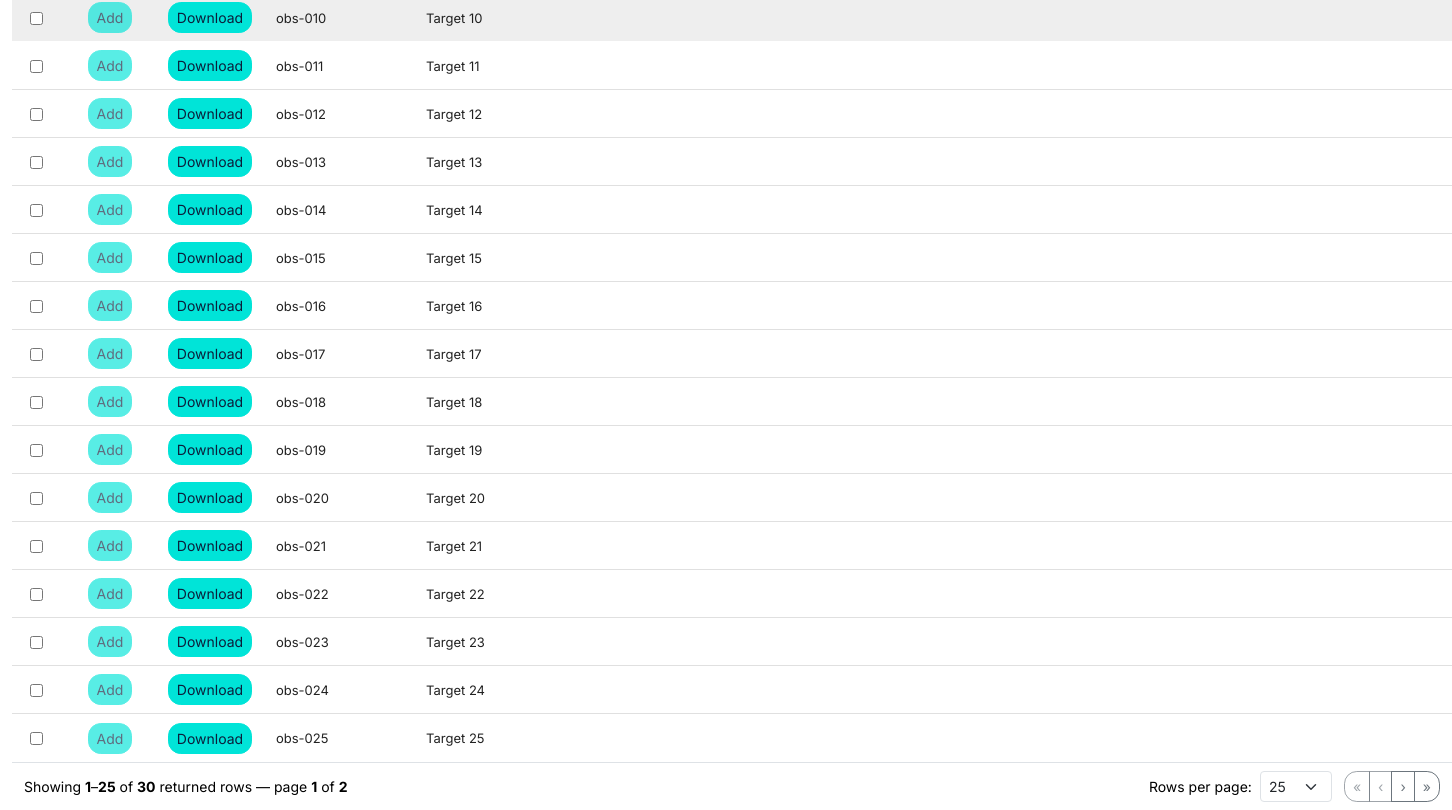
ResultsTable pagination and selection › deselects a row correctly after sorting changes the visible page
The width and height of the screenshot is (1452, 810).
(page scrolled)
Select "10" in the dropdown labelled "Rows per page:" at (1296, 786), box [1260, 771, 1332, 802]
(page scrolled)
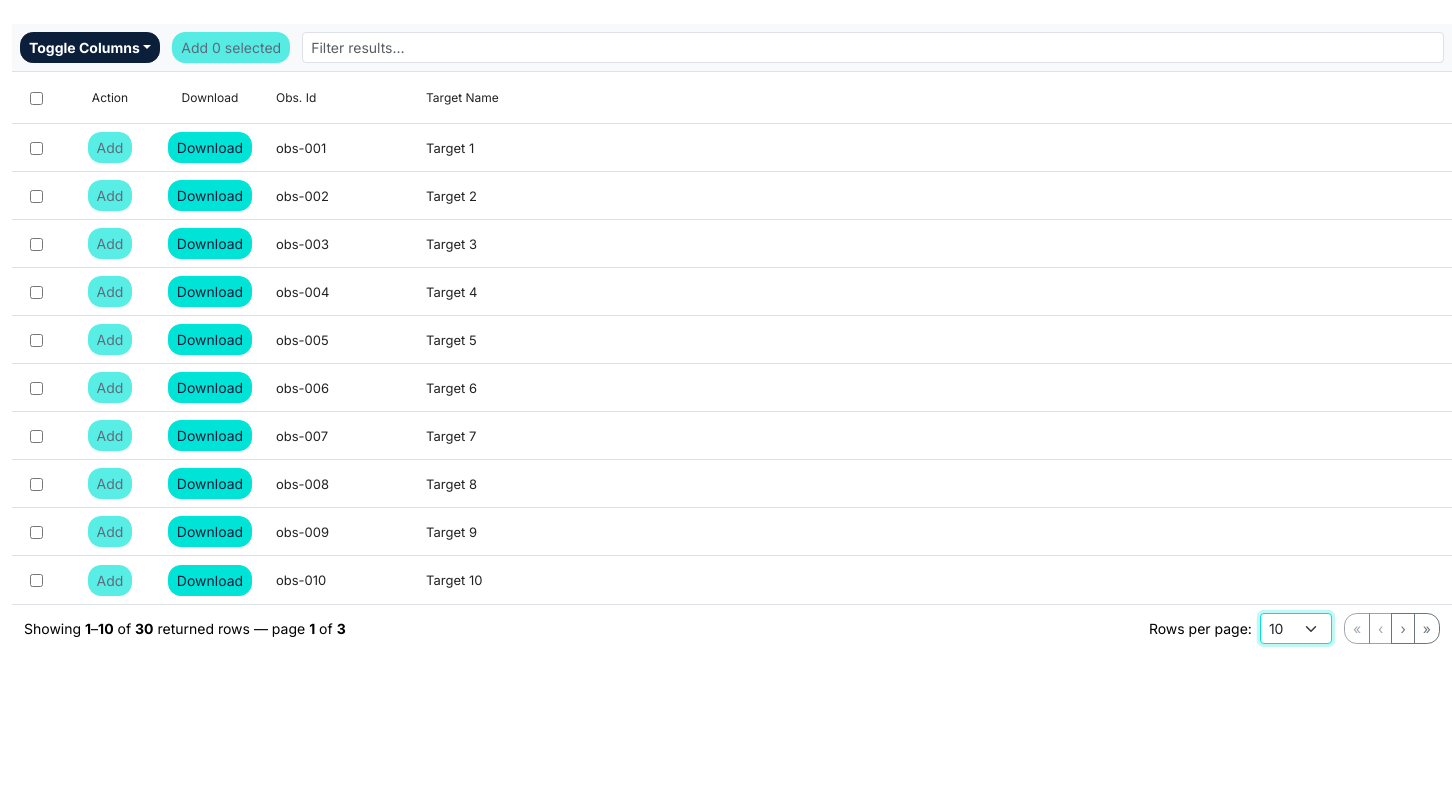
Check: the text "obs-001" is shown, box [276, 140, 326, 156]
Check: the text "obs-010" is shown, box [276, 572, 326, 588]
first click sorts ascending, second click descending
Click the column heading "Obs. Id".
click(296, 98)  # box [276, 90, 316, 105]
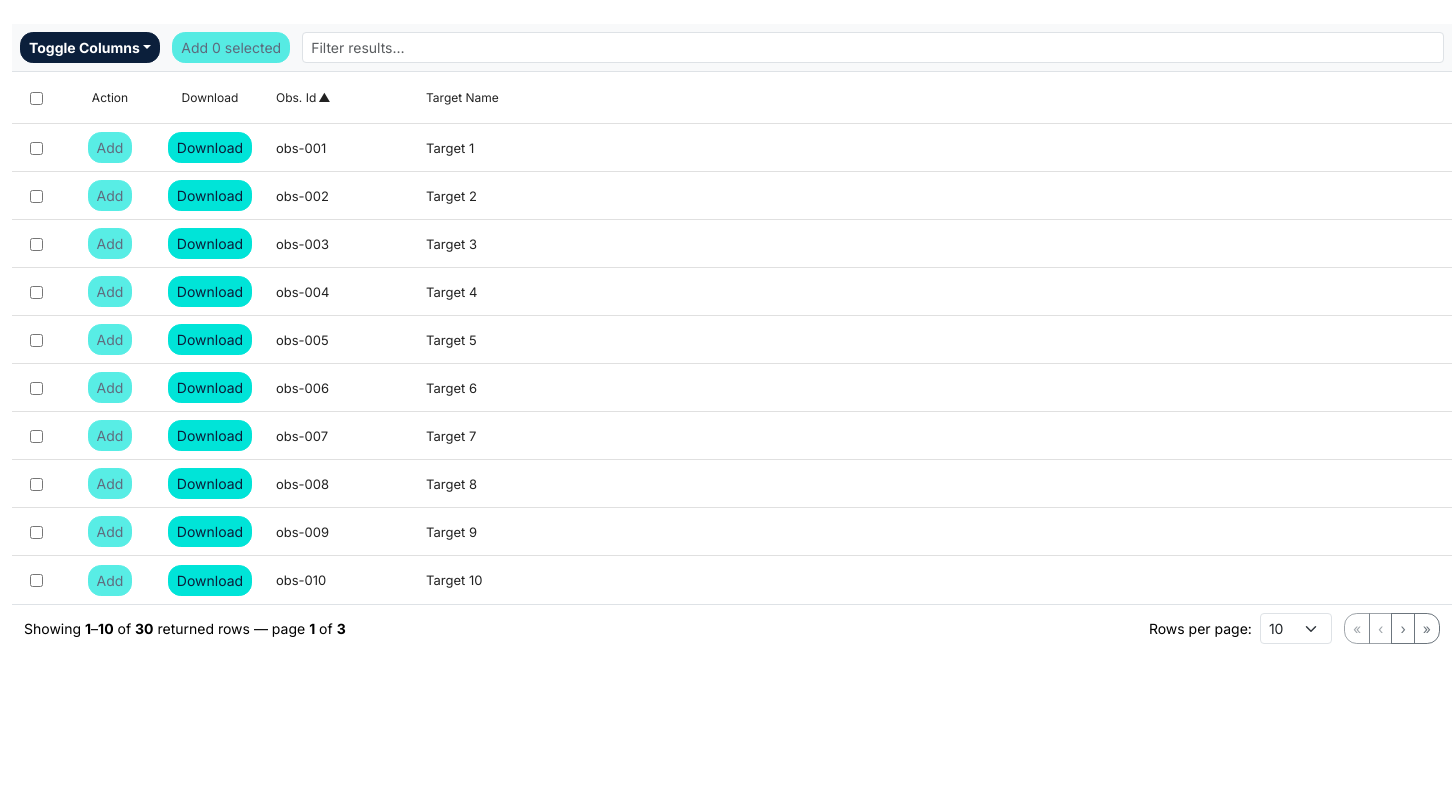
Click the column heading "Obs. Id ▲".
click(303, 98)  # box [276, 90, 330, 105]
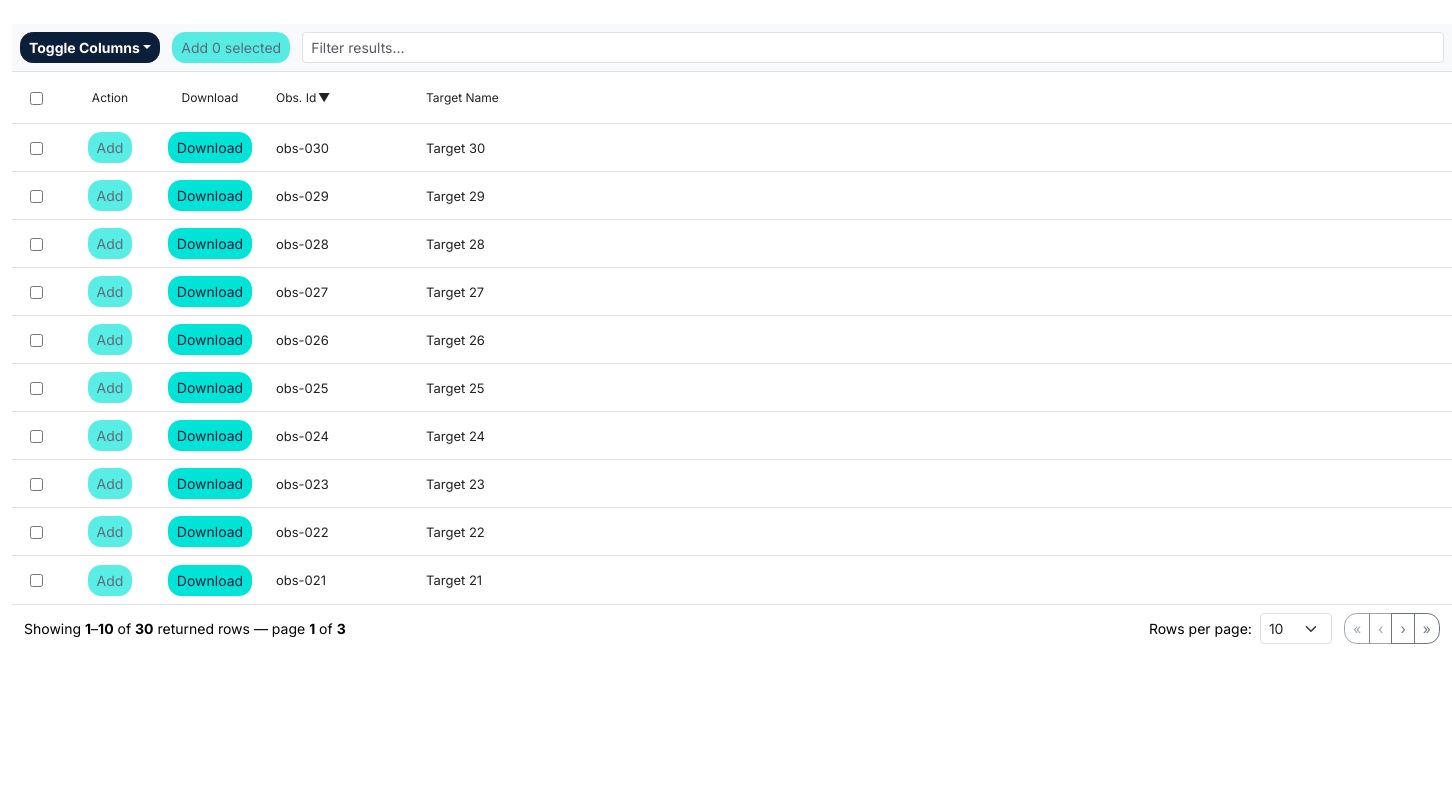
Check: the text "obs-030" is shown, box [276, 140, 329, 156]
Check: the text "obs-001" is gone
select the newly visible row
Click the checkbox named "select-row-obs-030-29".
click(36, 148)  # box [30, 142, 42, 154]
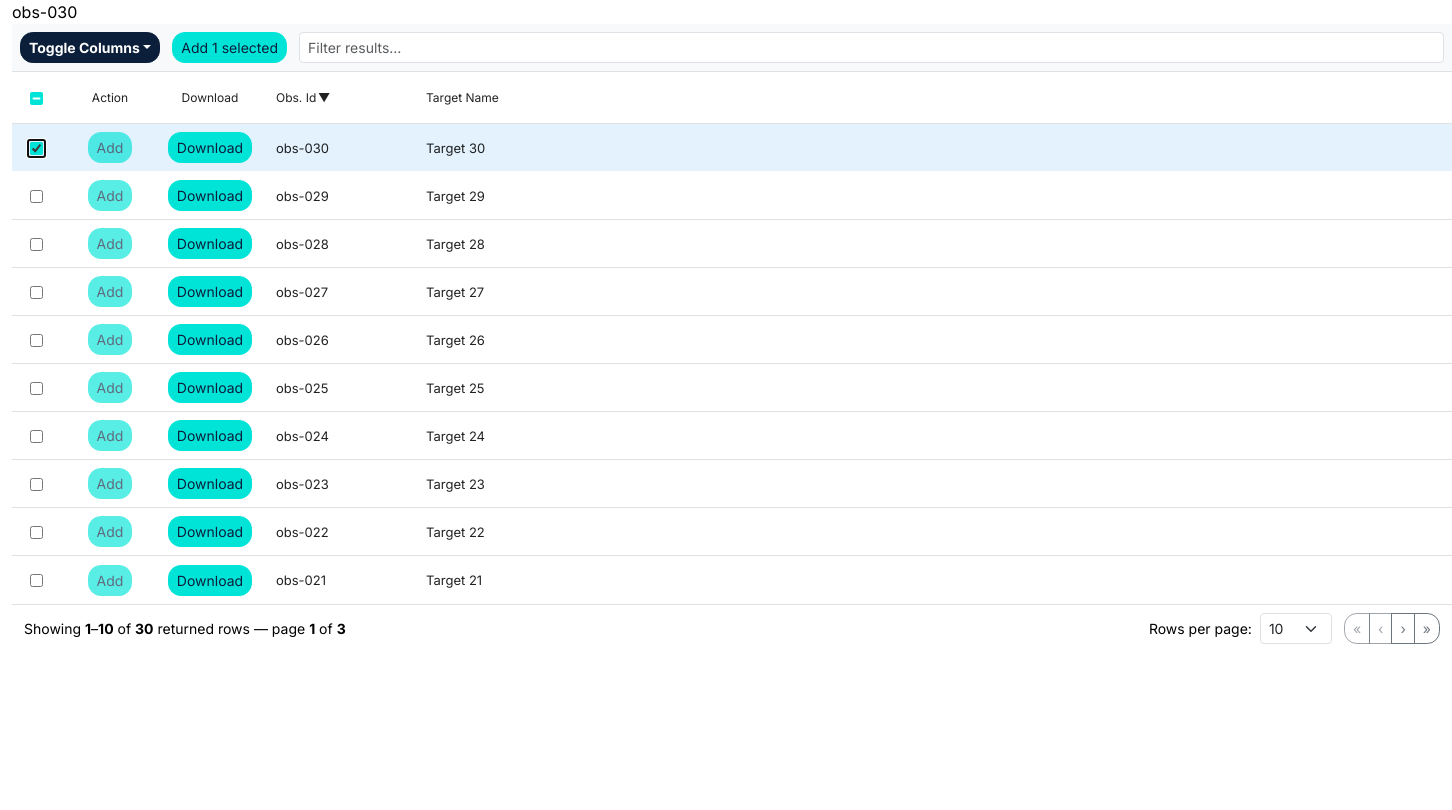
Check: the checkbox named "select-row-obs-030-29" is checked
Check: the text with test id "selected-ids" reads "obs-030", box [12, 2, 77, 22]
Check: the button "Add 1 selected" is enabled, box [172, 32, 287, 63]
Click the checkbox named "select-row-obs-030-29".
click(36, 148)  # box [30, 142, 42, 154]
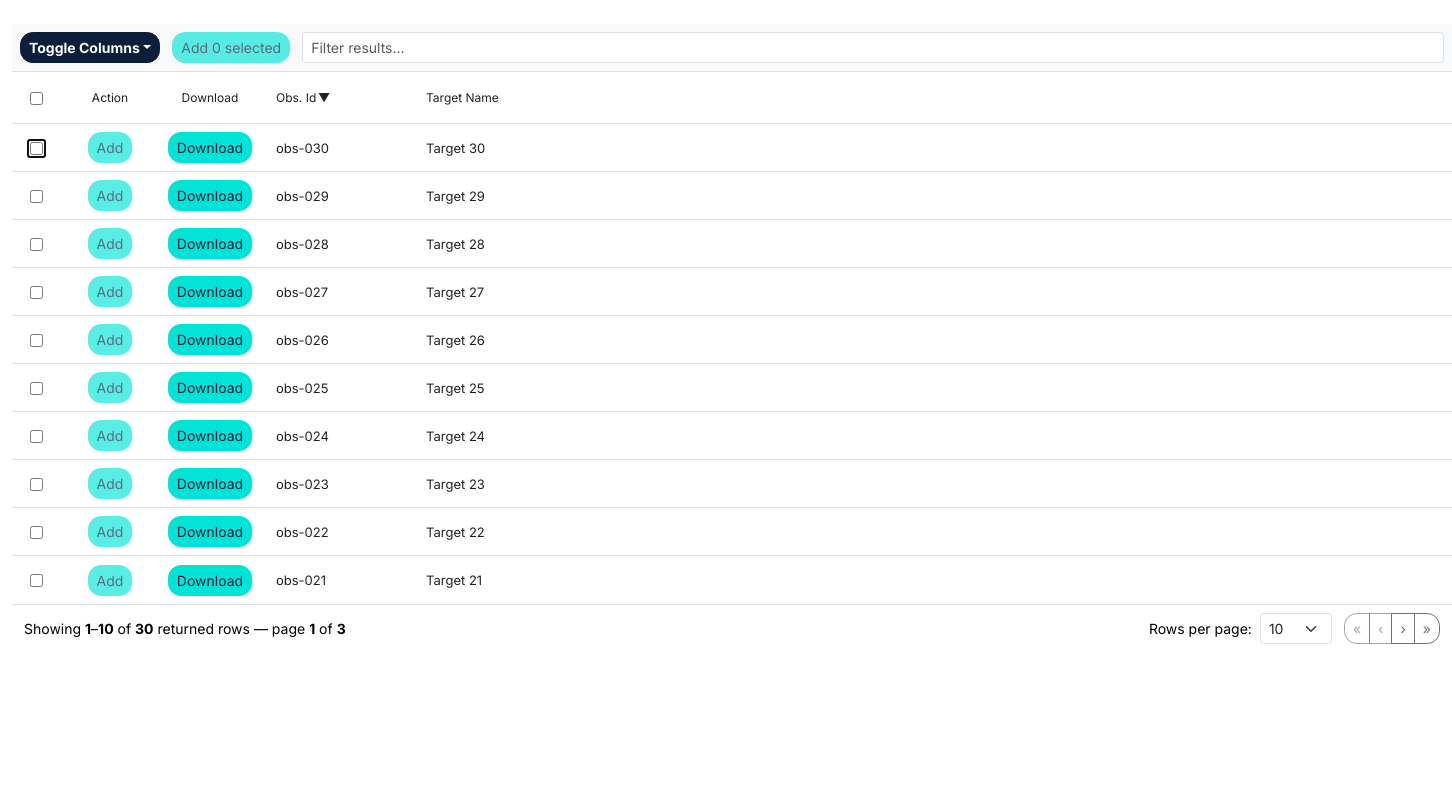
Check: the checkbox named "select-row-obs-030-29" is not checked, box [30, 142, 42, 154]
Check: the button "Add 0 selected" is disabled, box [172, 32, 290, 63]
